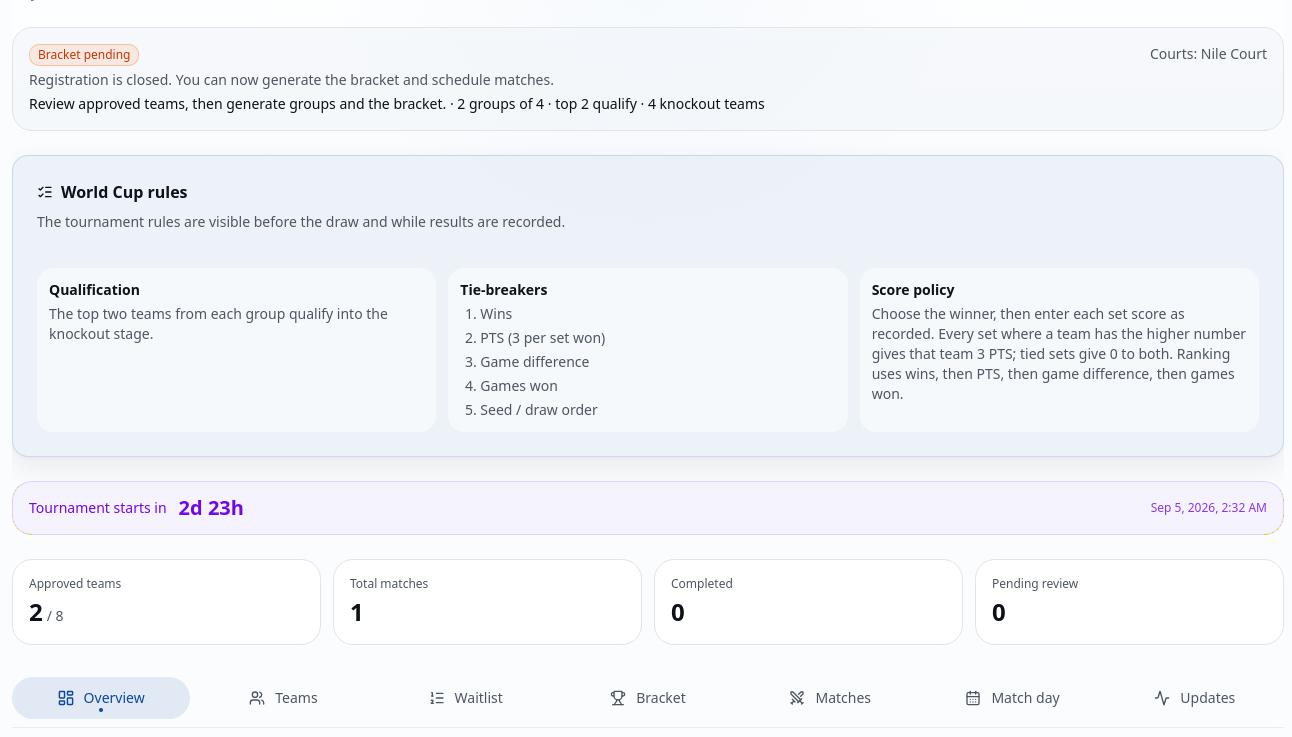
Test: TournamentDetailsPage › schedules a match with Cairo-normalized datetimes
The image size is (1292, 737).
Later steps or results of the test are not shown.
Click the tab "Matches": (830, 698) [741, 677, 919, 719]
Press Enter in the tab "Matches", box [741, 677, 919, 719]
(page scrolled)
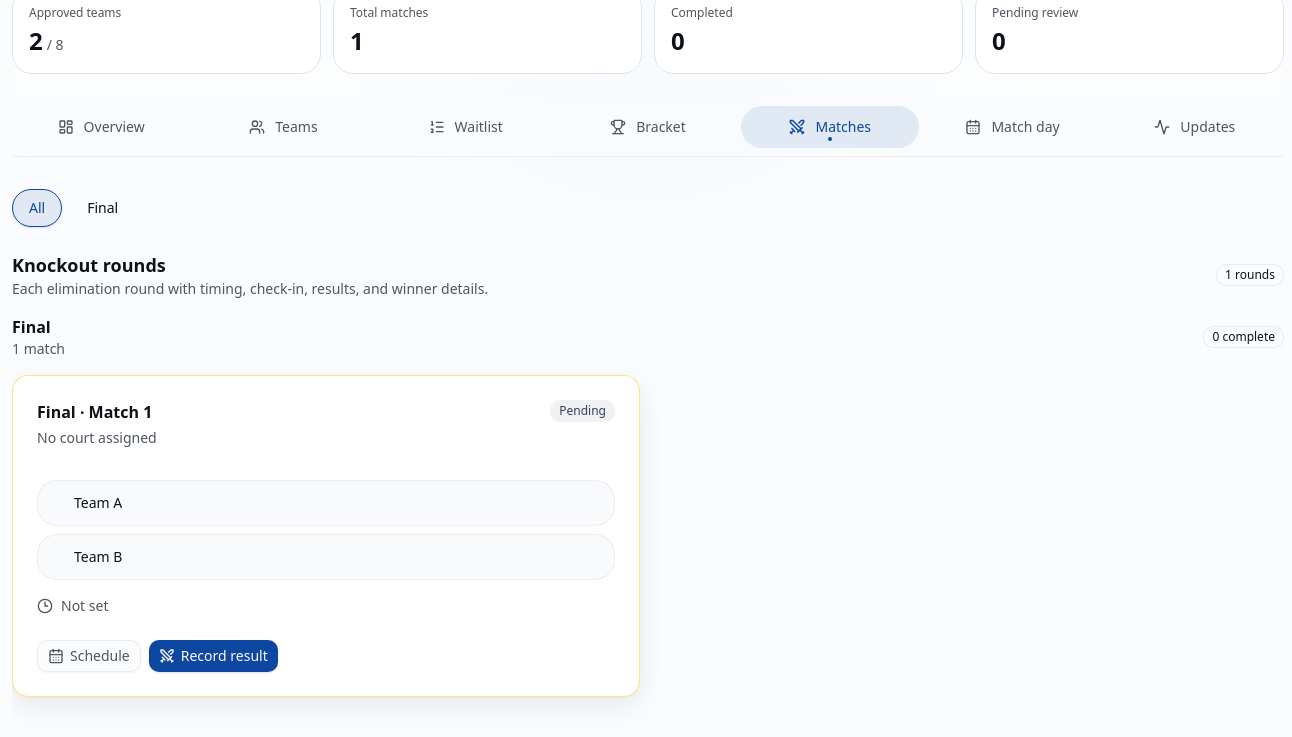
Now the tab "Matches" has attribute data-state="active", box [741, 106, 919, 148]
